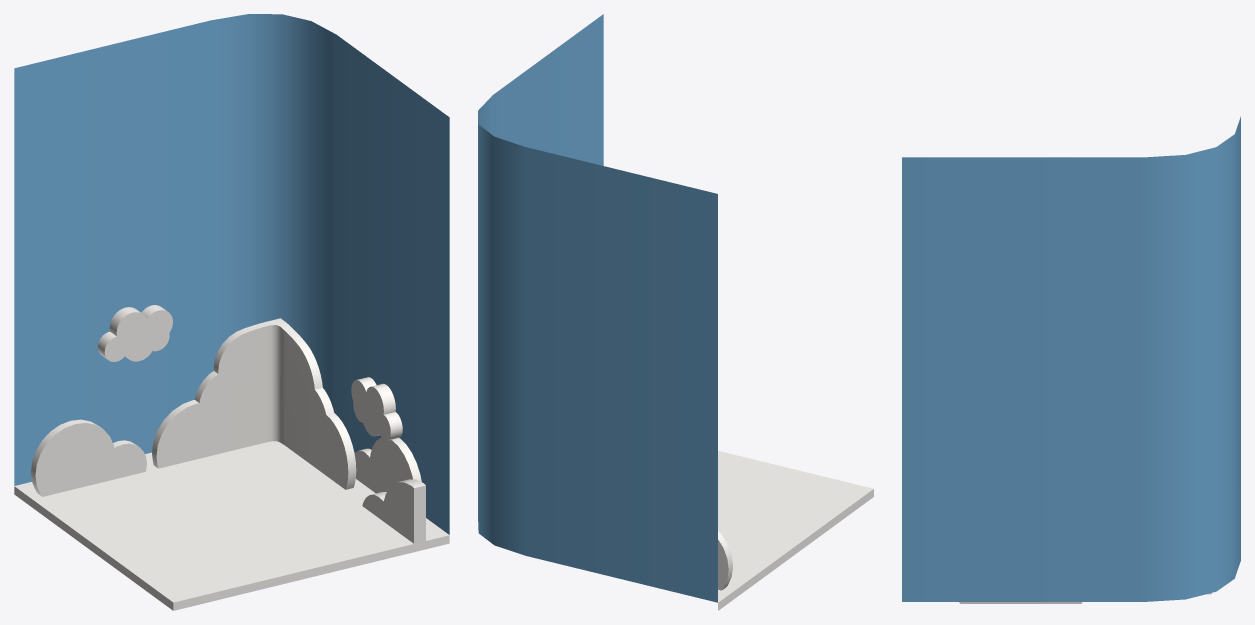
File: StudioBase_00.FBX
3 renders of one model, left to right at view 1: azimuth 30°, elevation 25°; view 2: azimuth 150°, elevation 25°; view 3: azimuth 270°, elevation 25°, orthographic. The views are drawn at different scales.
Parts seen in each view (by area): view 1: StudioBase_Sky_00, StudioBase_Cloud_00; view 2: StudioBase_Sky_00, StudioBase_Cloud_00; view 3: StudioBase_Sky_00.
Boxes of the visible parts, x1,y1,x2,y2 form: StudioBase_Sky_00: [14, 14, 449, 610]; StudioBase_Cloud_00: [31, 305, 425, 547]; StudioBase_Sky_00: [478, 14, 873, 610]; StudioBase_Cloud_00: [718, 531, 732, 590]; StudioBase_Sky_00: [902, 116, 1240, 601].
Size of the model in its own units: 34.6 by 51 by 34.53.
